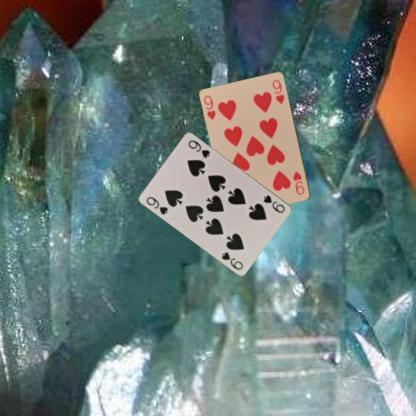9h: (201, 92, 217, 121), (290, 168, 306, 196)
9s: (144, 194, 170, 216), (261, 192, 286, 214)
